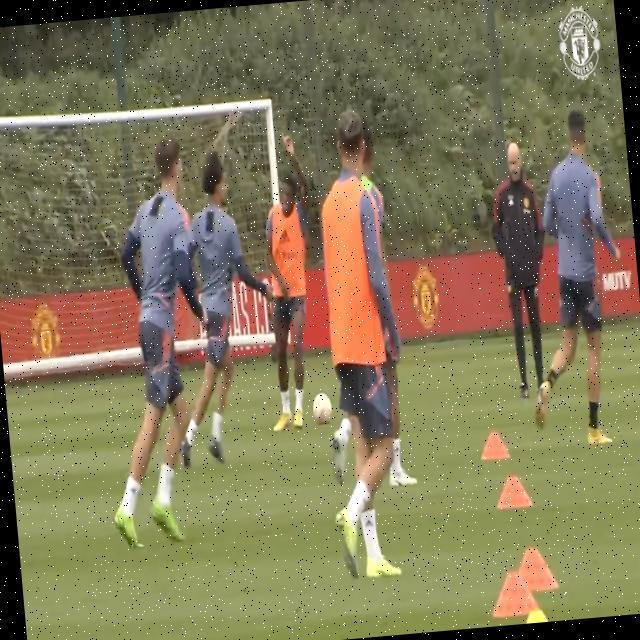Adidas: (276, 226, 291, 246)
